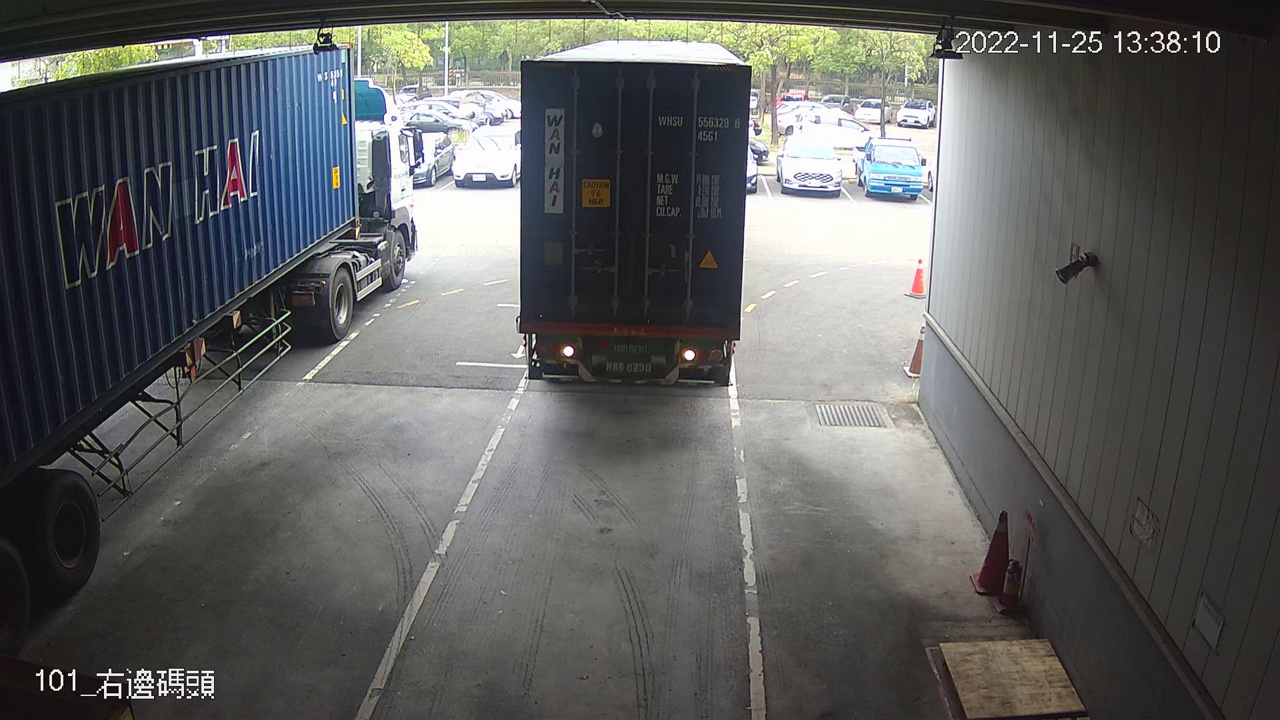container: (655, 109, 743, 148)
